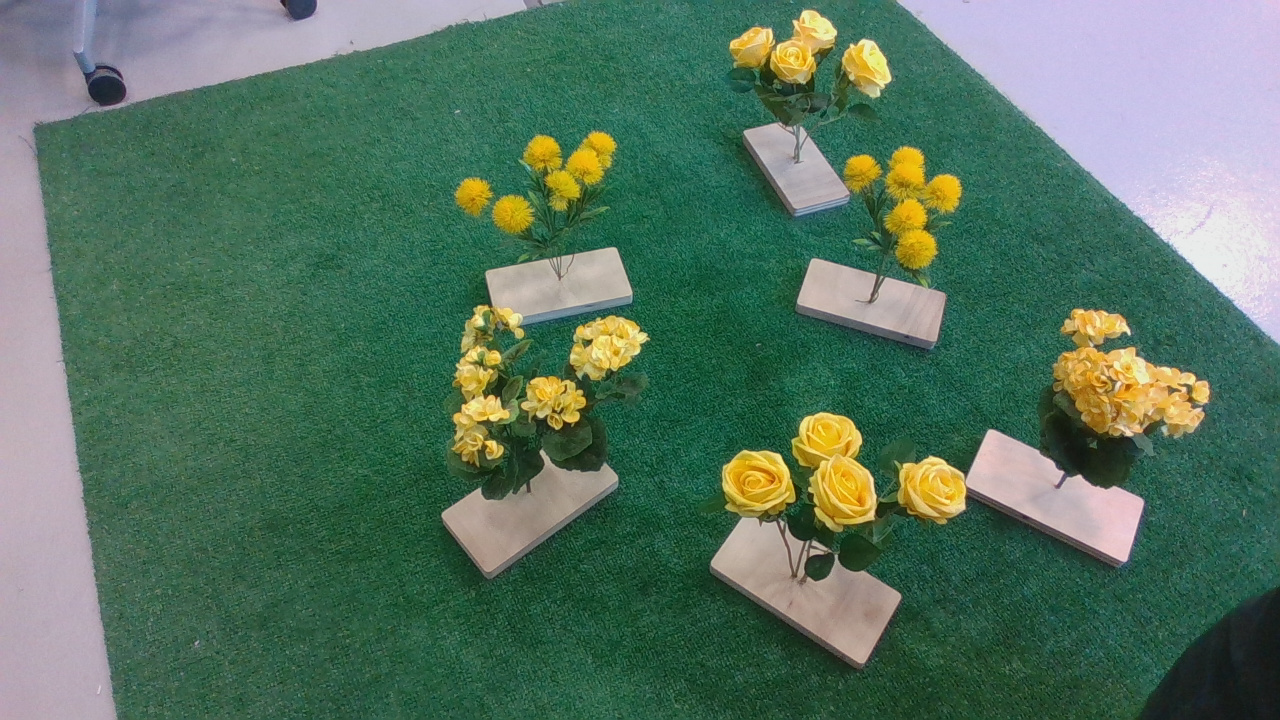dandelion: (457, 132, 635, 267), (844, 142, 970, 304)
geranium: (447, 303, 675, 511), (1039, 305, 1220, 498)
rose: (718, 413, 988, 588), (725, 11, 909, 134)
